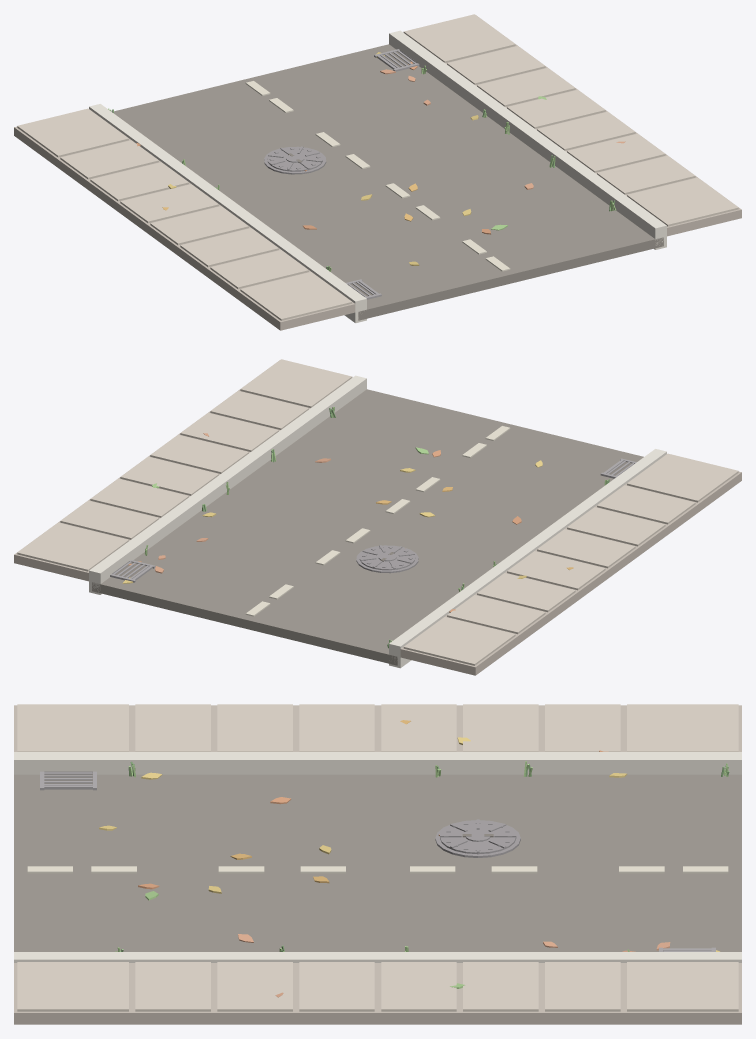
File: Road_Straight_A.fbx
3 renders of one model, top to bottom at view 1: azimuth 30°, elevation 25°; view 2: azimuth 150°, elevation 25°; view 3: azimuth 270°, elevation 25°, orthographic. The views are drawn at different scales.
Visible parts, largest first — view 1: Road_Straight_A, Road_Straight_A_Veg; view 2: Road_Straight_A, Road_Straight_A_Veg; view 3: Road_Straight_A, Road_Straight_A_Veg.
Part boxes in pixels (x1,y1,x2,y2): Road_Straight_A: (14,14,741,330); Road_Straight_A_Veg: (108,52,625,271); Road_Straight_A: (14,359,741,675); Road_Straight_A_Veg: (122,407,609,648); Road_Straight_A: (14,704,741,1024); Road_Straight_A_Veg: (99,720,729,997).
Bounding box in the file's own units: 8 × 0.3973 × 8.
